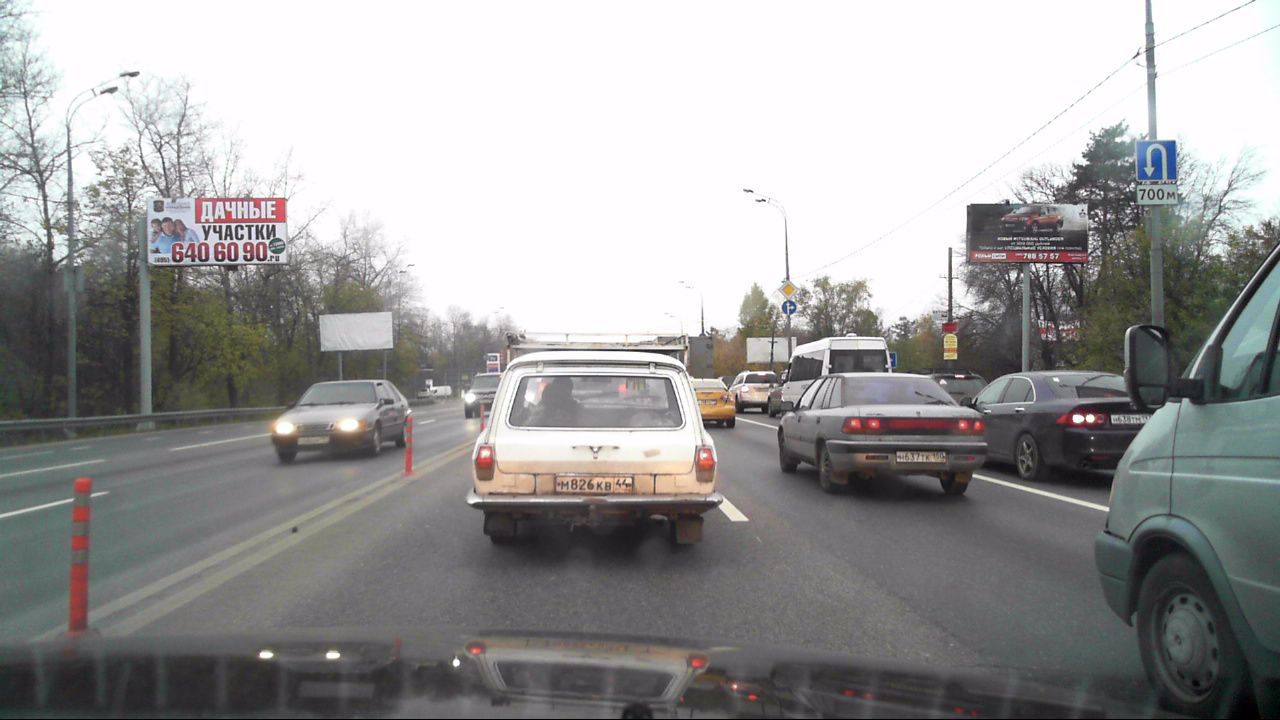U-turn: (1136, 141, 1176, 180)
